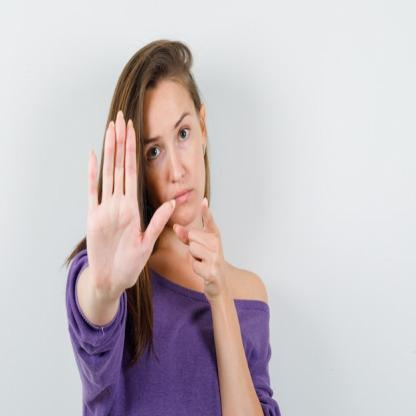stop: (82, 108, 180, 297)
